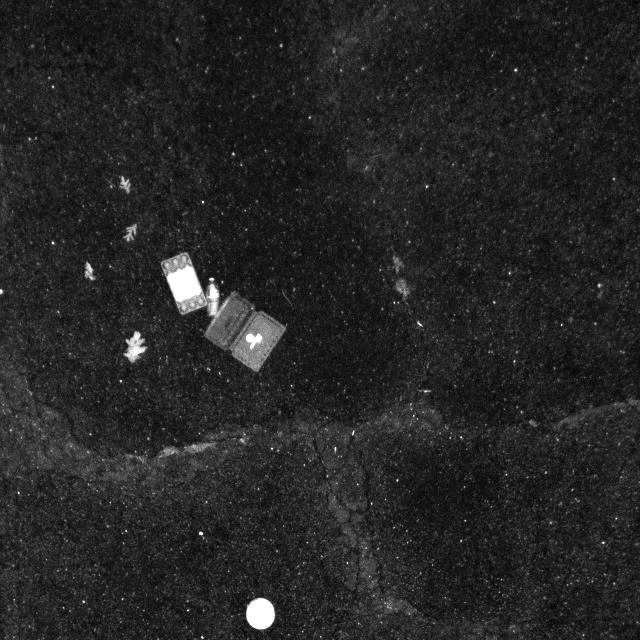bottle: (195, 265, 221, 327)
container: (200, 292, 292, 373), (152, 249, 206, 318)
